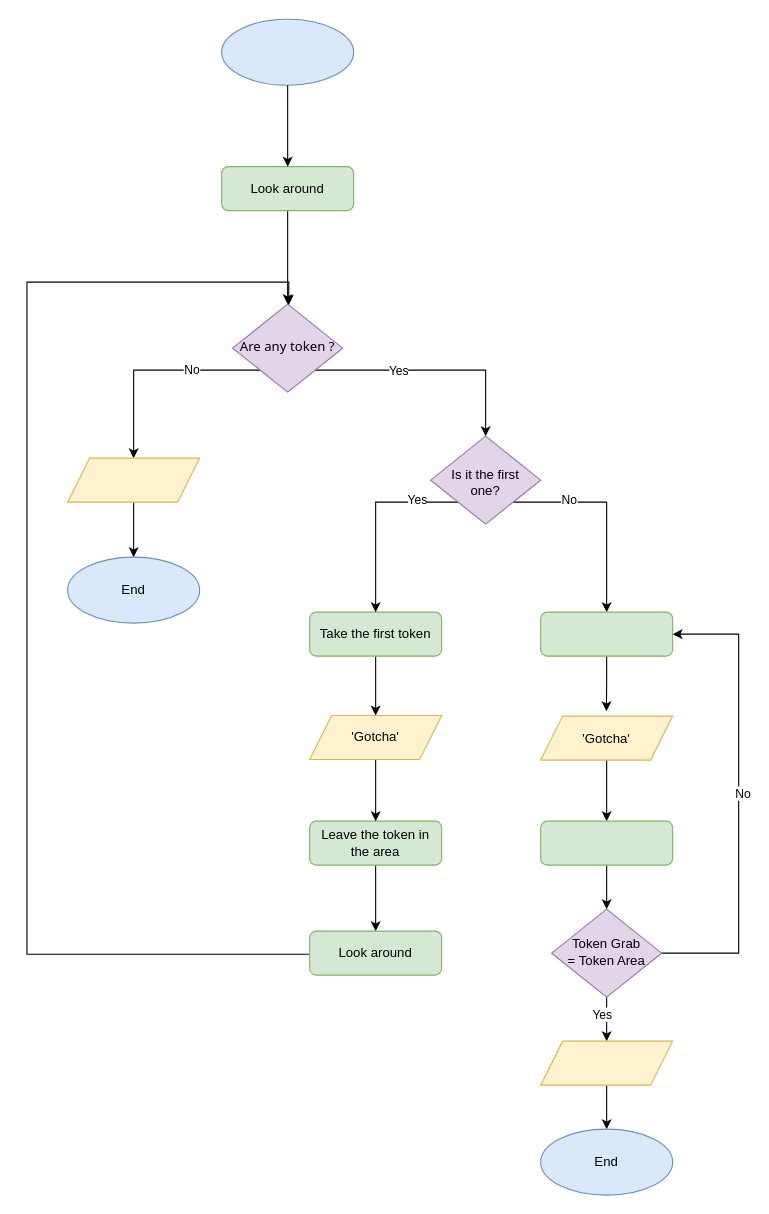
This 769x1214 diagram has some shape labels left out. The centre of each missing label's shape, as x and y in pixels:
"Eureka": [606,1062]
'No token': [133,479]
Leave the token near the first one: [606,842]
Start: [287,51]
Take the token: [606,633]
